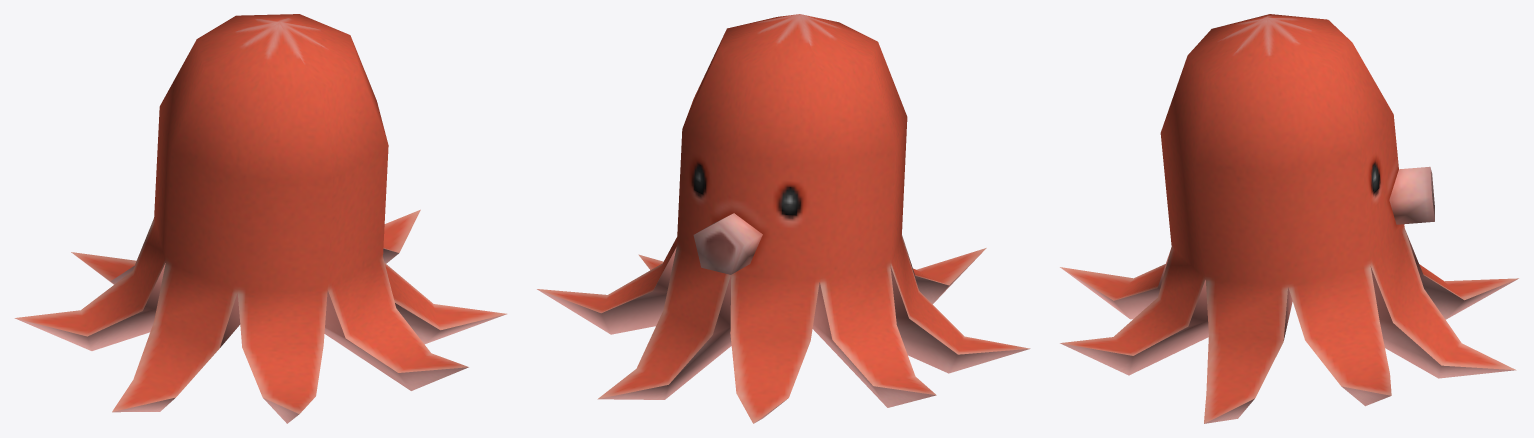
File: SausageOct.fbx
The picture shows the model from 3 angles, left to right: view 1: azimuth 30°, elevation 25°; view 2: azimuth 150°, elevation 25°; view 3: azimuth 270°, elevation 25°; orthographic projection.
Visible parts, largest first — view 1: Empty_Mesh; view 2: Empty_Mesh; view 3: Empty_Mesh.
Boxes of the visible parts, x1=… form: Empty_Mesh: x1=14, y1=14, x2=506, y2=423; Empty_Mesh: x1=537, y1=14, x2=1030, y2=423; Empty_Mesh: x1=1060, y1=14, x2=1518, y2=423.
Bounding box in the file's own units: 0.3092 × 0.2499 × 0.3067.
